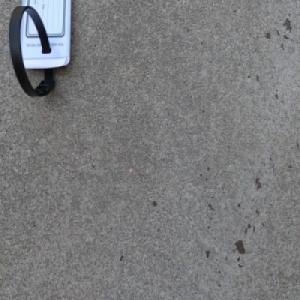LuggageTag: (8, 0, 74, 101)
